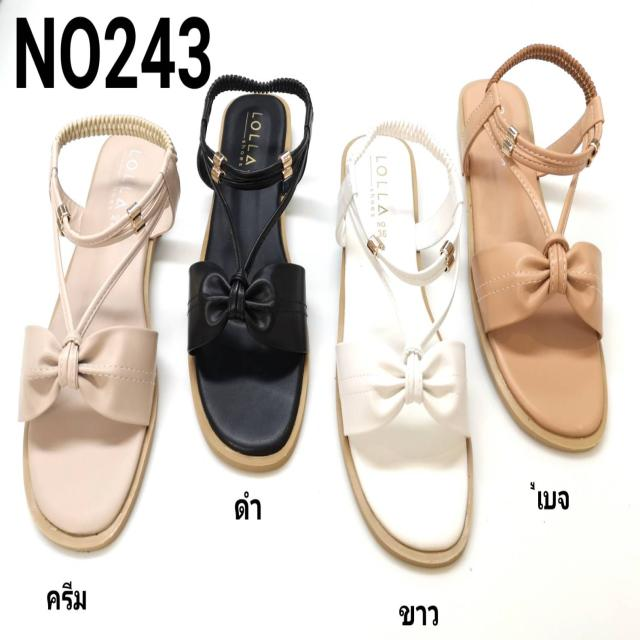bej: (453, 79, 607, 446)
black: (203, 93, 304, 470)
cream: (25, 133, 170, 542)
white: (339, 141, 480, 560)
